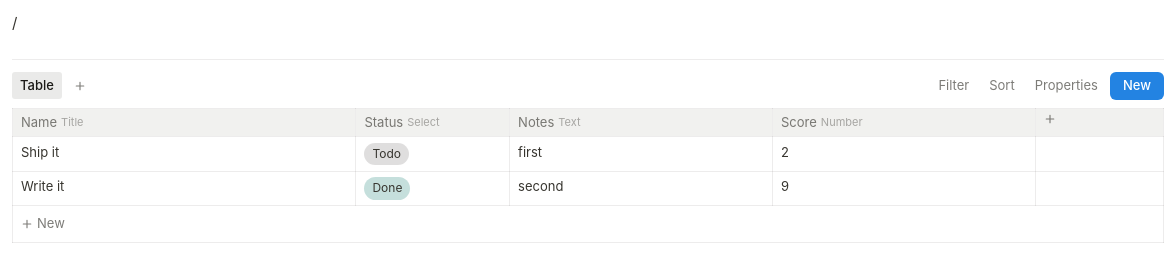
the title column › offers no type, no hiding and no deleting
This screenshot has width=1176, height=277.
Check: the table with test id "db-table" is shown, box x1=12 y1=108 x2=1164 y2=243
What coordinates should you click on to do the following:
click the button "Name Title"
I would click on:
 (39, 122)
Its box is x1=13 y1=108 x2=355 y2=136.
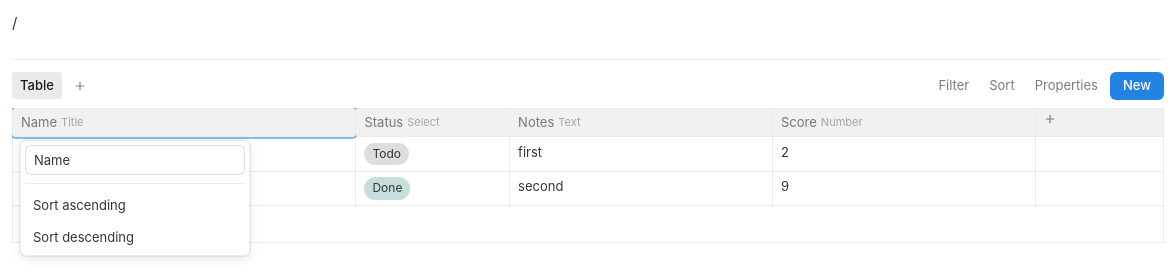
Check: the menu item "Sort ascending" is shown, box x1=25 y1=192 x2=245 y2=220
